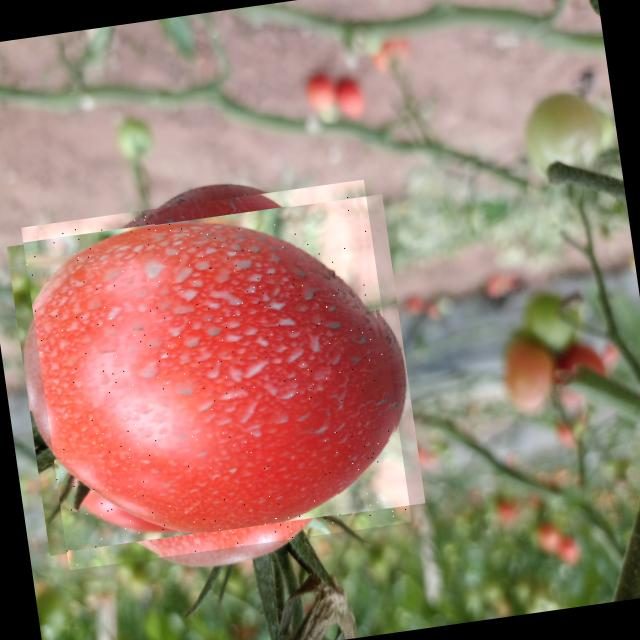Ripe Tomato: (21, 180, 412, 570)
